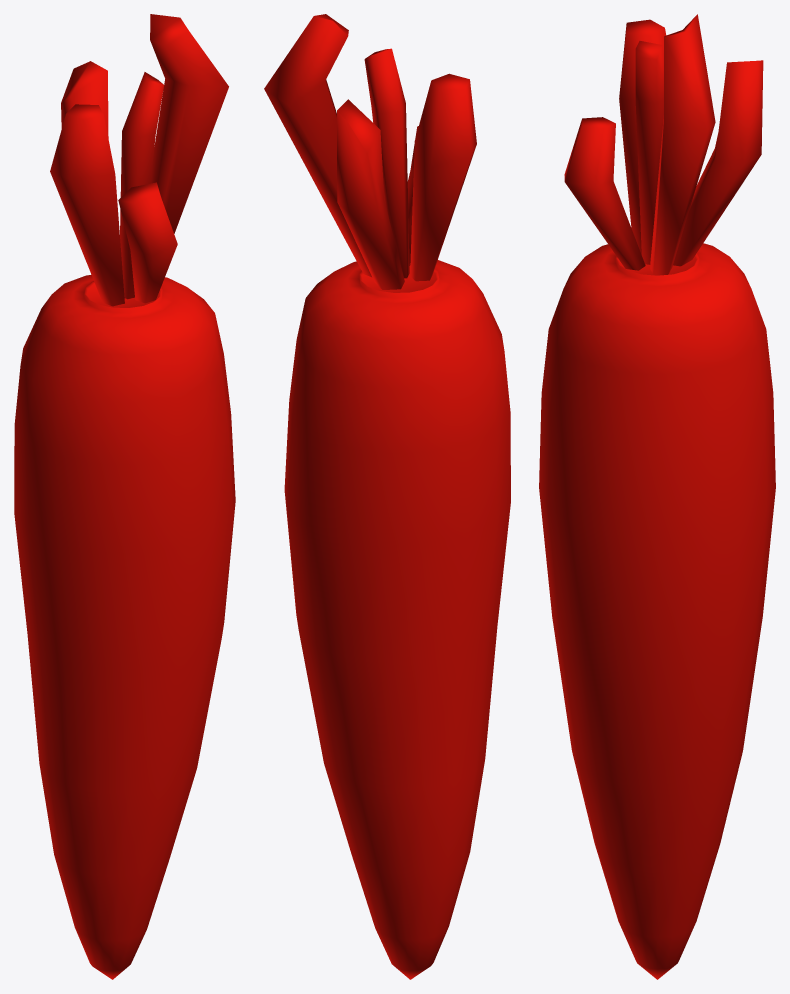
Rendered from CarotaBad.fbx.
3 views of the same model, side by side, from view 1: azimuth 30°, elevation 25°; view 2: azimuth 150°, elevation 25°; view 3: azimuth 270°, elevation 25° (orthographic). The views are drawn at different scales.
Visible parts, largest first — view 1: Carota.002; view 2: Carota.002; view 3: Carota.002.
Part boxes in pixels (x1,y1,x2,y2): Carota.002: [14, 14, 235, 979]; Carota.002: [264, 14, 510, 979]; Carota.002: [539, 14, 775, 979].
Bounding box in the file's own units: 209 × 920 × 198.
